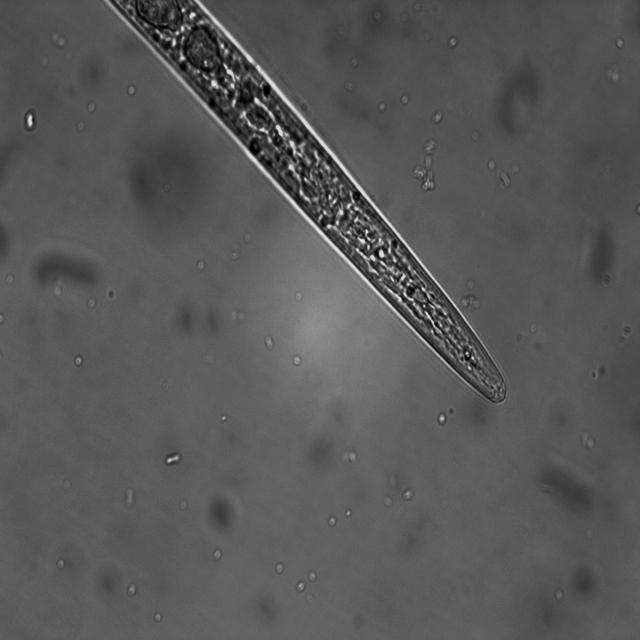Meloidogyne: (111, 0, 524, 408)
